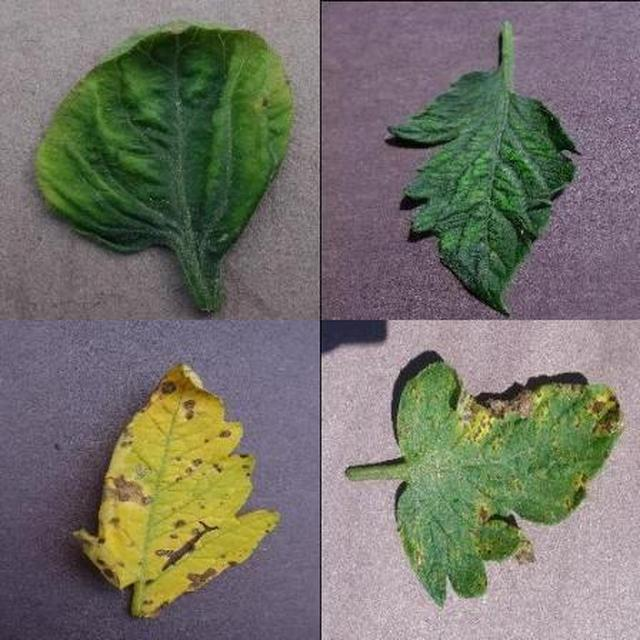Yellow Leaf Curl Virus: (235, 193, 640, 640)
